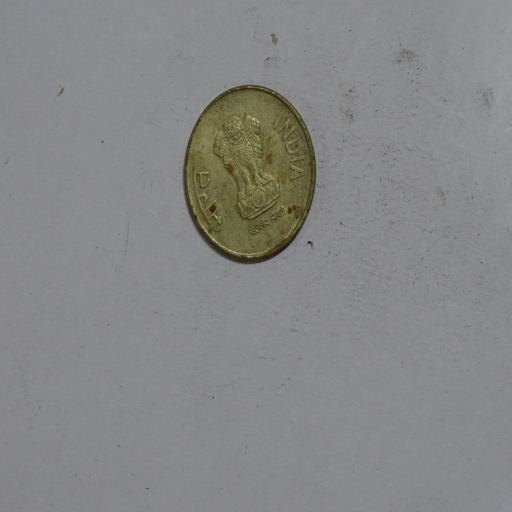rupee5: (179, 83, 316, 265)
